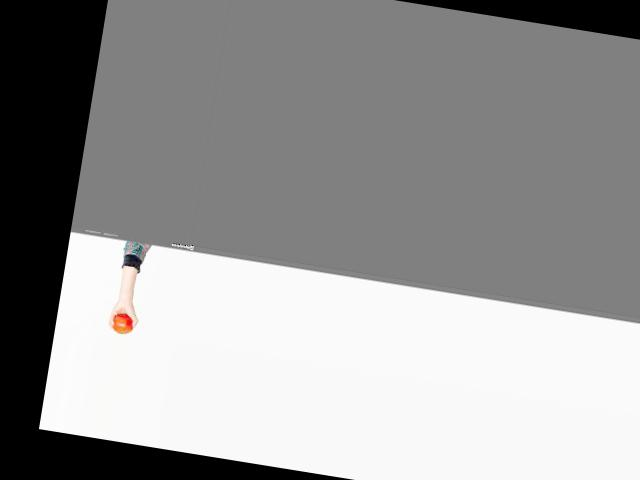tomato: (110, 312, 134, 335)
